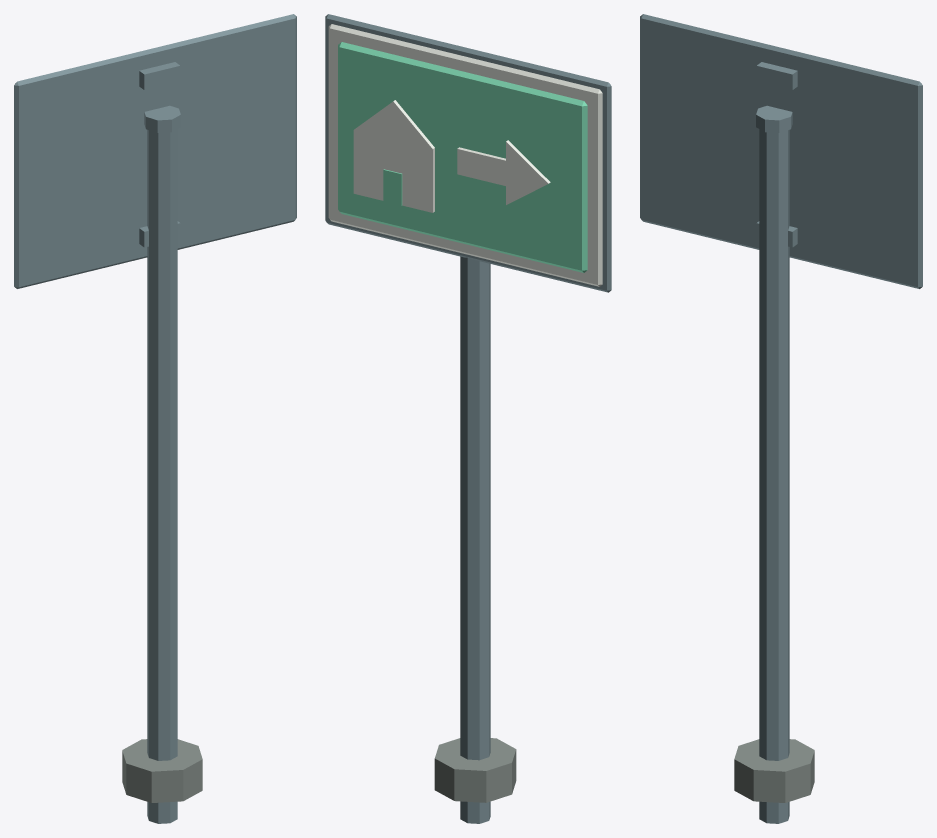
Rendered from sm_env_sign_delivery_ahead.glb.
3 views of the same model, side by side, from view 1: azimuth 30°, elevation 25°; view 2: azimuth 150°, elevation 25°; view 3: azimuth 330°, elevation 25° (orthographic).
Parts seen in each view (by area): view 1: SignBack, SignPost, PostBase, SignBracket.001, PostCap; view 2: SignPanel, SignPost, SignBorder, SignBack, House, PostBase, Arrow, HouseDoor; view 3: SignBack, SignPost, PostBase, SignBracket.001, PostCap.
Boxes of the visible parts, x1,y1,x2,y2 form: SignBack: (14, 14, 296, 288); SignPost: (147, 129, 177, 823); PostBase: (122, 739, 202, 802); SignBracket.001: (139, 62, 180, 90); PostCap: (144, 105, 180, 132); SignPanel: (338, 42, 587, 272); SignPost: (460, 256, 490, 823); SignBorder: (328, 24, 602, 286); SignBack: (325, 14, 611, 292); House: (353, 100, 434, 212); PostBase: (434, 738, 516, 802); Arrow: (457, 140, 550, 204); HouseDoor: (383, 169, 402, 205); SignBack: (640, 14, 922, 288); SignPost: (759, 129, 789, 823); PostBase: (734, 739, 814, 802); SignBracket.001: (756, 62, 797, 90); PostCap: (756, 105, 792, 132).
Size of the model in its own units: 0.94 by 2.43 by 0.24.
